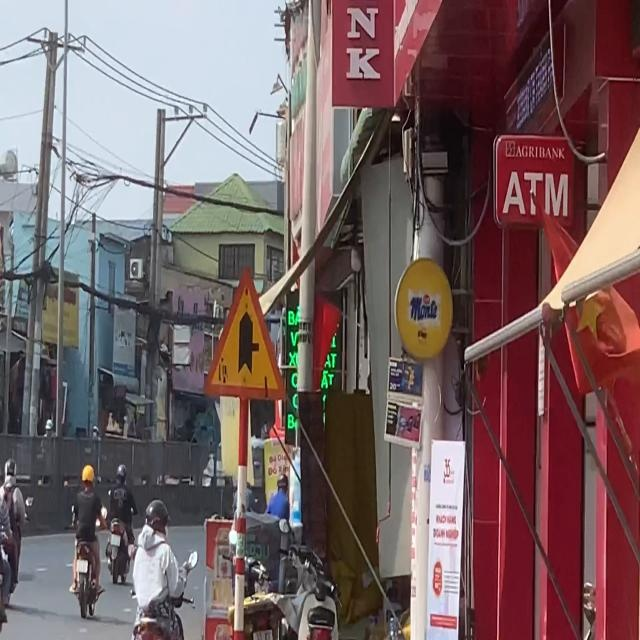bien_nguy_hiem: (201, 262, 289, 406)
